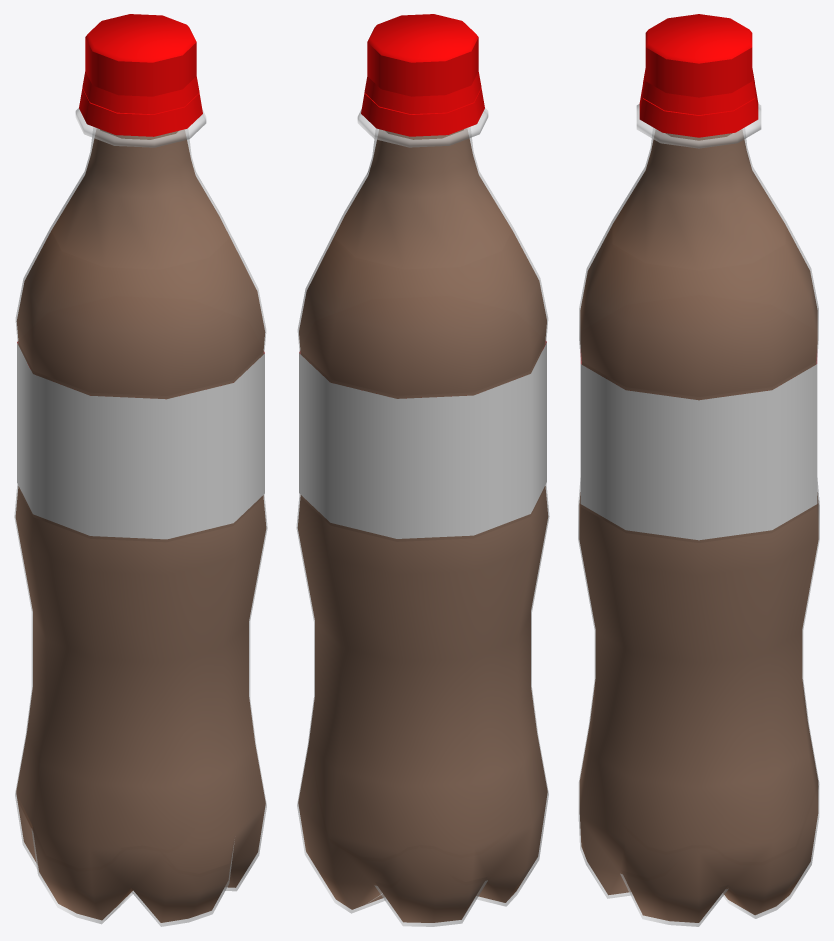
Rendered from PETBottleA.fbx.
The picture shows the model from 3 angles, left to right: view 1: azimuth 30°, elevation 25°; view 2: azimuth 150°, elevation 25°; view 3: azimuth 270°, elevation 25°; orthographic projection.
Visible parts, largest first — view 1: PETBottleA; view 2: PETBottleA; view 3: PETBottleA.
Part boxes in pixels (x1=…): PETBottleA: x1=14, y1=14, x2=267, y2=926; PETBottleA: x1=296, y1=14, x2=549, y2=926; PETBottleA: x1=578, y1=14, x2=819, y2=926.
Bounding box in the file's own units: 0.0557 × 0.2053 × 0.053.
